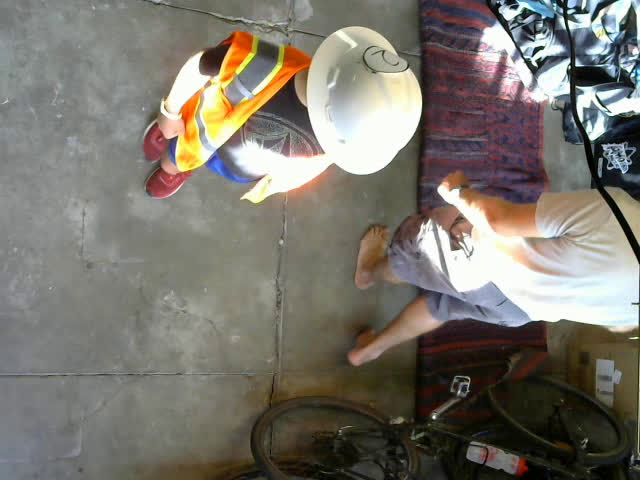two: (363, 45, 409, 74)
